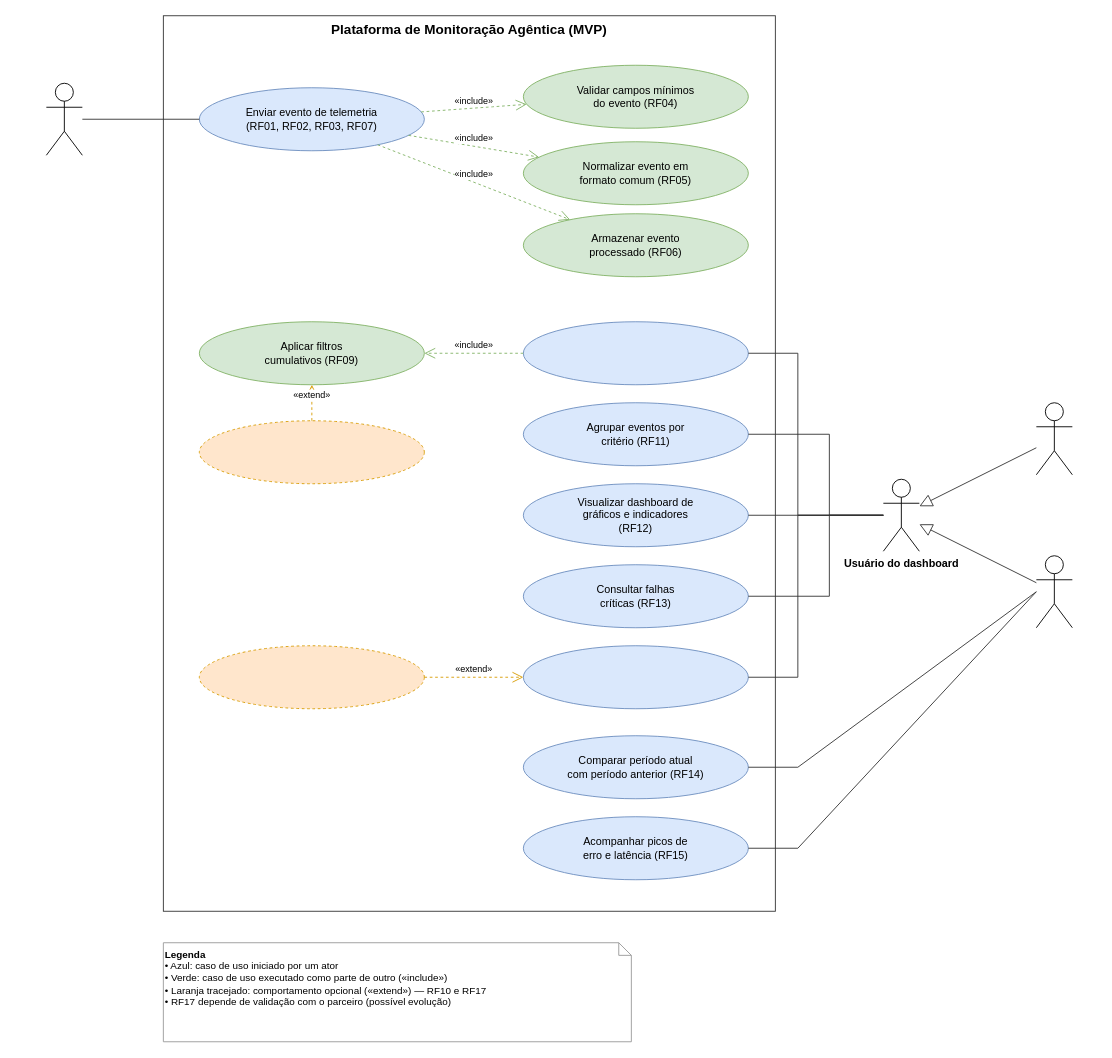
The diagram is 1112 pixels wide and 1058 high, and some of its shapes have lost their labels. The shapes that lost their labels are listed below. From the top down, each one's centre as x and y in pixels, then its label:
At point 63,118: "Aplicação frontend do Globoplay".
At point 635,353: "Consultar eventos por tipo, período e atributos (RF08)".
At point 311,452: "Sugerir valores existentes nos filtros (RF10)".
At point 1053,438: "Analista de Suporte N2 (Mariana)".
At point 1053,591: "Engenheiro de Observabilidade (Rafael)".
At point 311,677: "Consultar hipóteses de causa raiz (RF17)".
At point 635,677: "Investigar problema com dados de contexto (RF16)".
